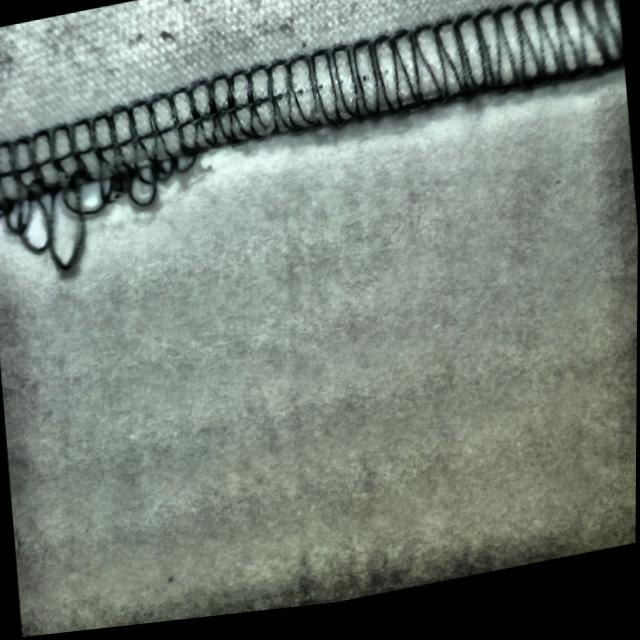Stitch: (0, 92, 206, 285)
